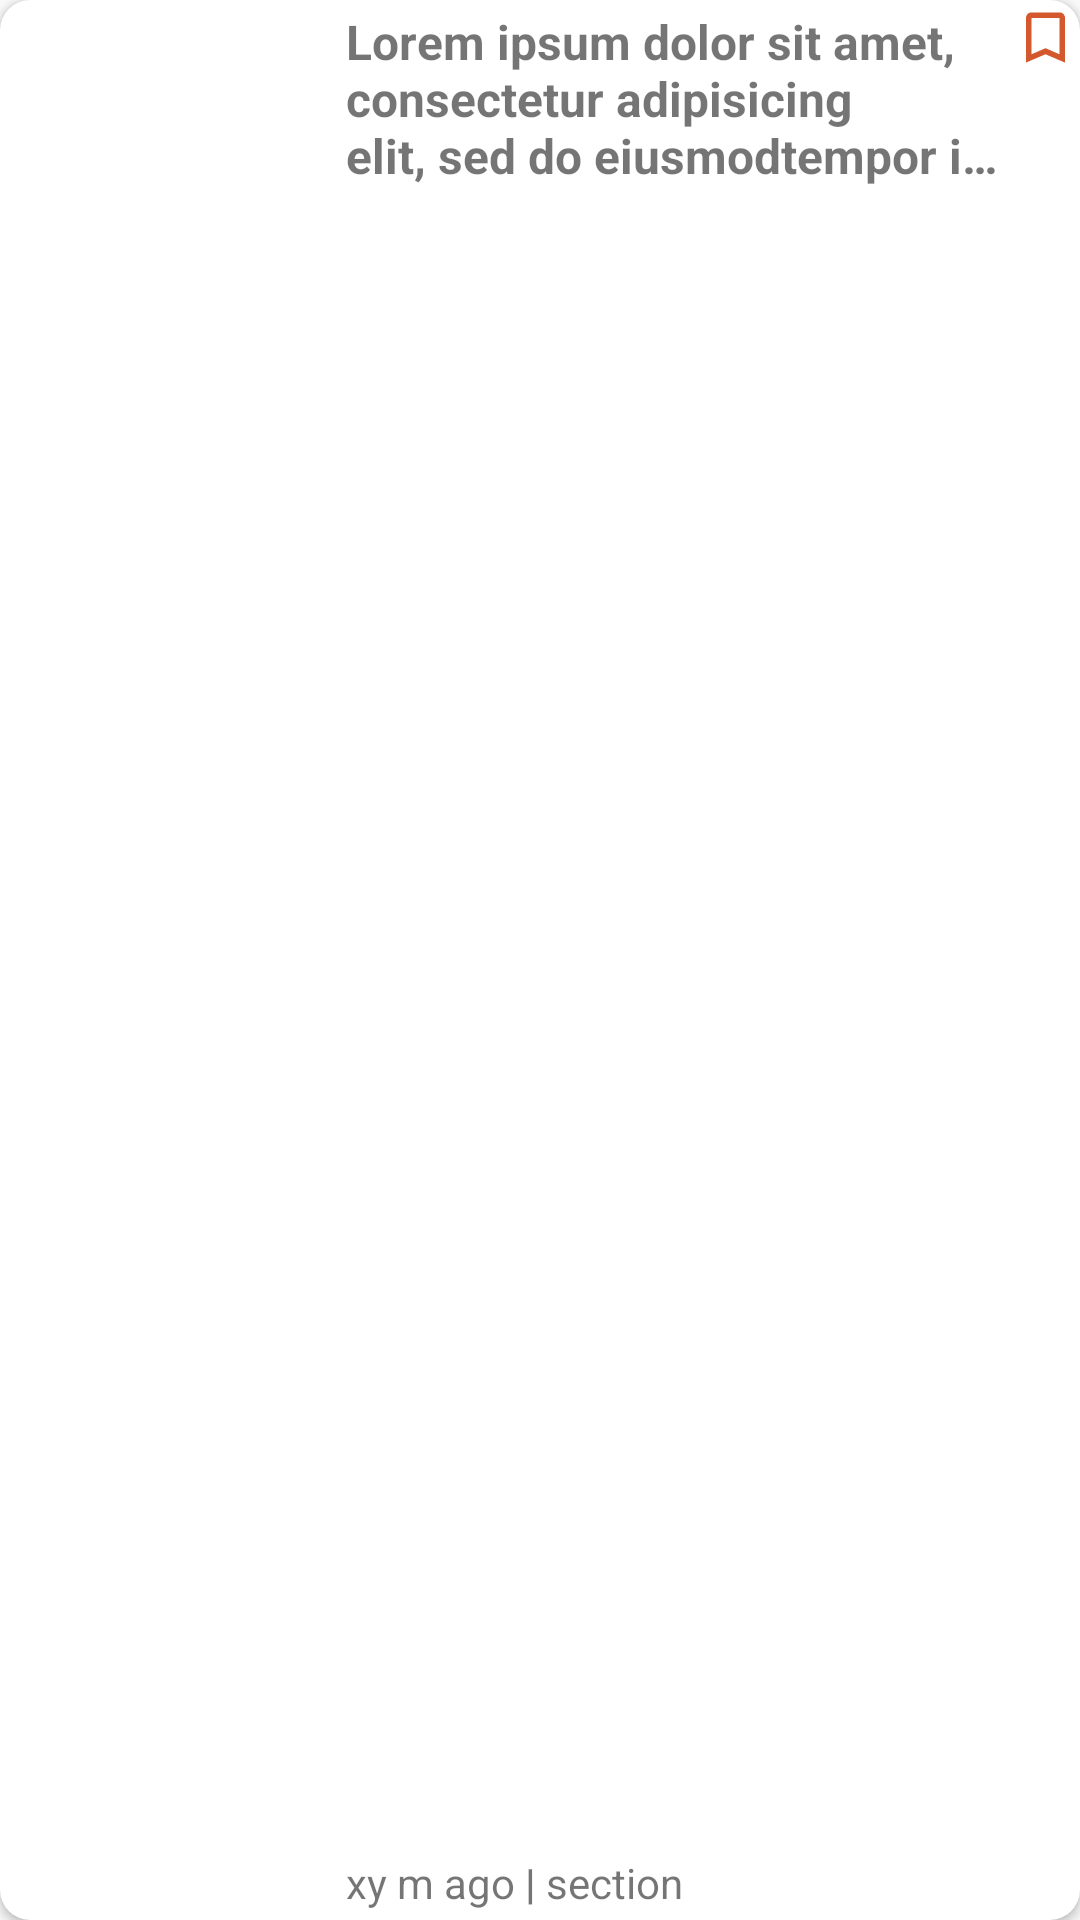

Icon bounding boxes for this 1080px×1920px phone screenshot, format bbox=(x1, y1, x2, y2):
bookmark border: bbox=(1026, 12, 1065, 63)
